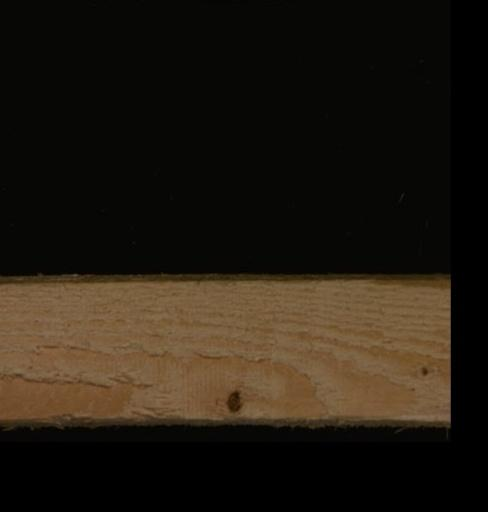dry_knot: (223, 385, 243, 414)
small_knot: (413, 362, 431, 378)
wave: (345, 274, 448, 289)
